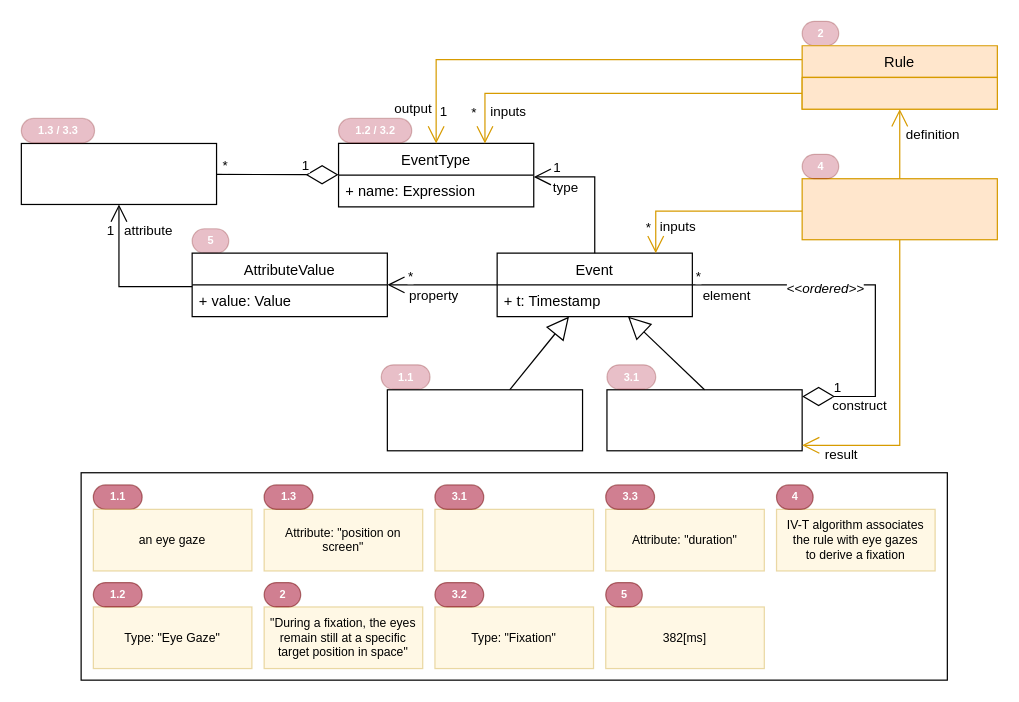
The diagram is 1019 pixels wide and 702 high, and some of its shapes have lost their labels. Here are the shapes that lost their labels. From the top down, the centre of each, then its label:
(x=899, y=92): + description: Expression
(x=118, y=173): EventAttribute
(x=899, y=209): RuleApplication
(x=484, y=420): AtomicEvent
(x=704, y=420): CompositeEvent
(x=514, y=539): a fixation
